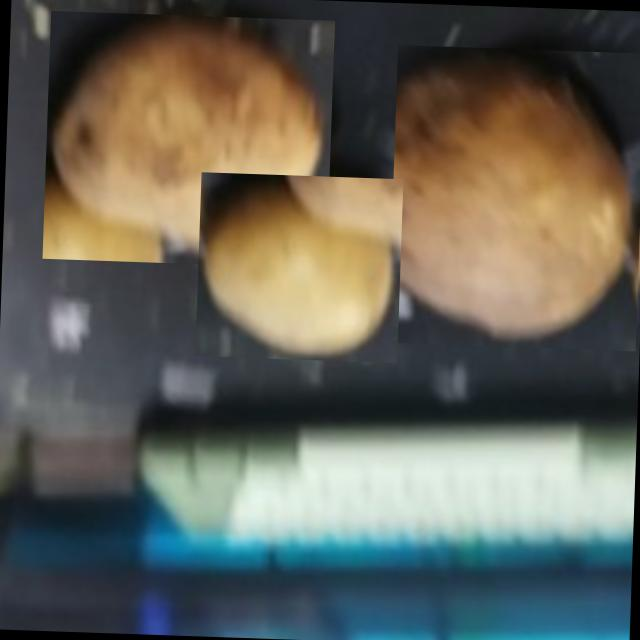Damaged potato: (387, 45, 640, 351), (42, 10, 334, 268)
Potato: (195, 172, 403, 362)
